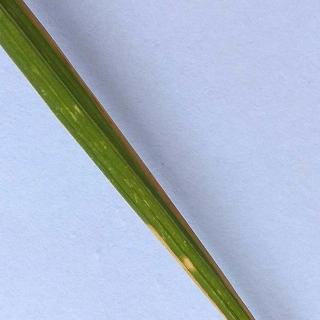Blast: (178, 250, 198, 276)
